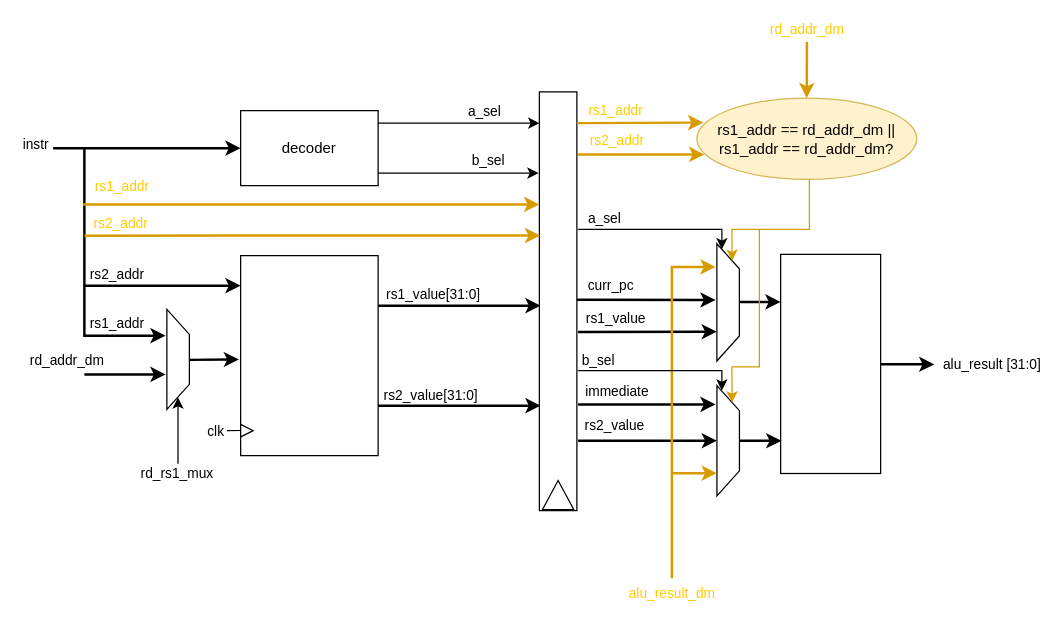
The diagram is 1061 pixels wide and 623 high, and some of its shapes have lost their labels. The box of each missing label's shape, as (x1, y1, x2, y2) in pixels:
ALU: (779, 253, 881, 474)
Register File: (239, 254, 378, 456)
